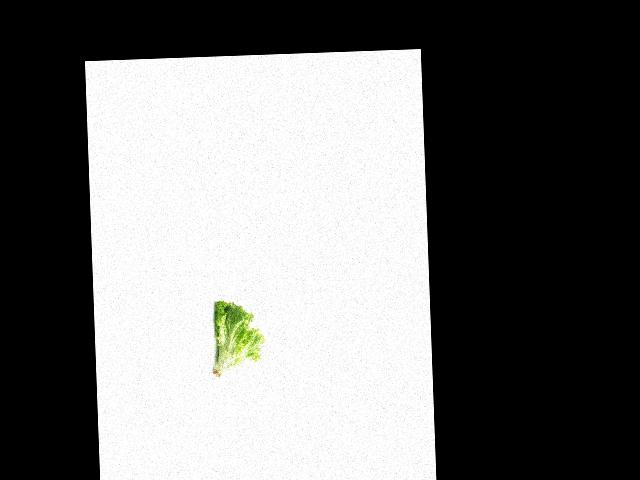lettuce: (209, 299, 266, 379)
